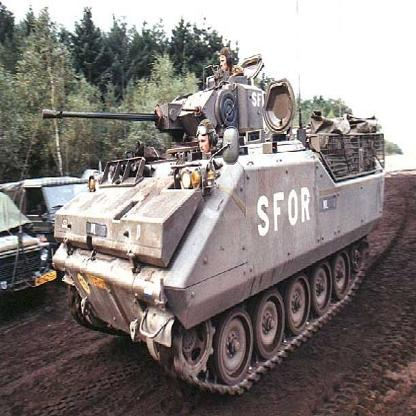Tank: (42, 54, 396, 385)
